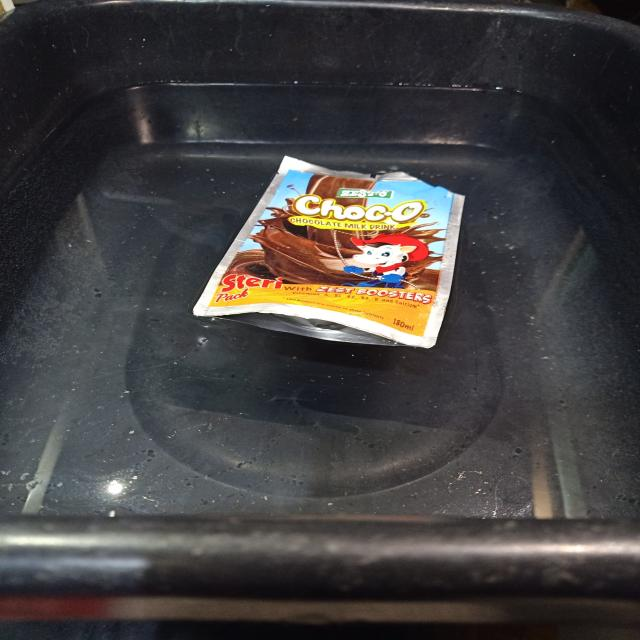Plastic Pouch: (193, 156, 464, 348)
